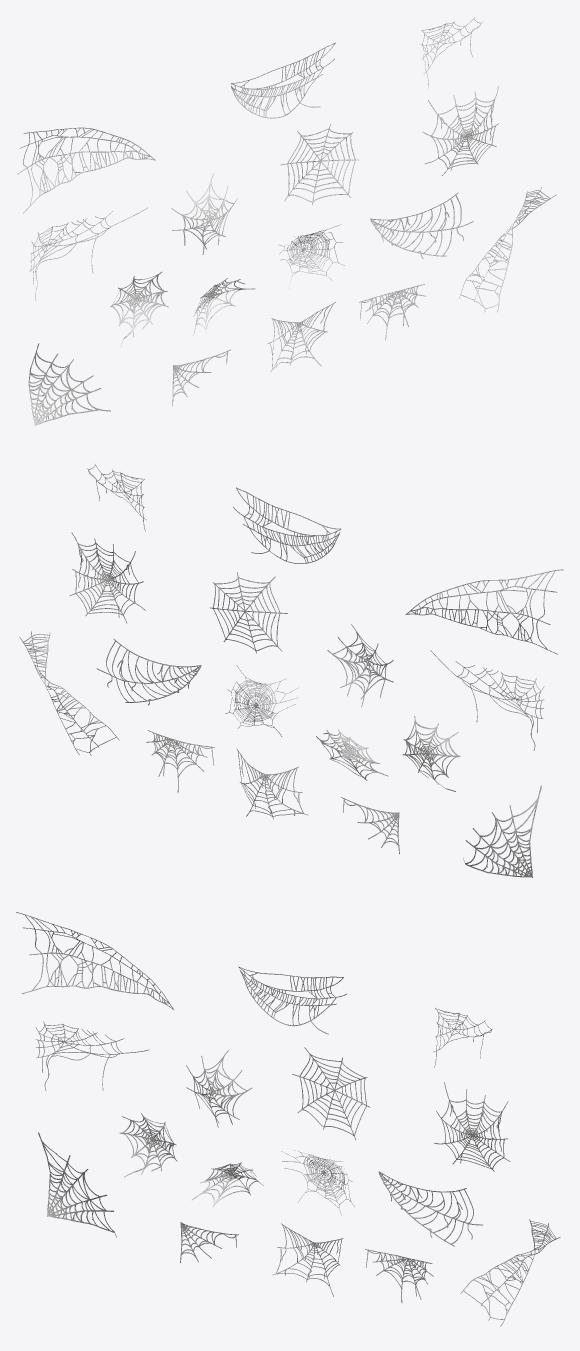
The model's file is Cobwebs.glb.
The picture shows the model from 3 angles, top to bottom: view 1: azimuth 30°, elevation 25°; view 2: azimuth 150°, elevation 25°; view 3: azimuth 330°, elevation 25°; orthographic projection.
Parts seen in each view (by area): view 1: SM_Cobwebs_07, SM_Cobwebs_05, SM_Cobwebs_15, SM_Cobwebs_11, SM_Cobwebs_06, SM_Cobwebs_16, SM_Cobwebs_03, SM_Cobwebs_04, SM_Cobwebs_08, SM_Cobwebs_14, SM_Cobwebs_10, SM_Cobwebs_13 (+4 smaller); view 2: SM_Cobwebs_07, SM_Cobwebs_05, SM_Cobwebs_15, SM_Cobwebs_11, SM_Cobwebs_06, SM_Cobwebs_04, SM_Cobwebs_08, SM_Cobwebs_16, SM_Cobwebs_03, SM_Cobwebs_14, SM_Cobwebs_10, SM_Cobwebs_13 (+4 smaller); view 3: SM_Cobwebs_07, SM_Cobwebs_05, SM_Cobwebs_15, SM_Cobwebs_11, SM_Cobwebs_06, SM_Cobwebs_08, SM_Cobwebs_16, SM_Cobwebs_04, SM_Cobwebs_03, SM_Cobwebs_14, SM_Cobwebs_10, SM_Cobwebs_13 (+4 smaller).
Part boxes in pixels (left/top/right/bottom): SM_Cobwebs_07: left=17, top=127, right=155, bottom=213; SM_Cobwebs_05: left=422, top=86, right=498, bottom=175; SM_Cobwebs_15: left=28, top=343, right=110, bottom=425; SM_Cobwebs_11: left=231, top=42, right=335, bottom=118; SM_Cobwebs_06: left=281, top=124, right=358, bottom=204; SM_Cobwebs_16: left=370, top=193, right=473, bottom=258; SM_Cobwebs_03: left=110, top=272, right=168, bottom=346; SM_Cobwebs_04: left=278, top=224, right=344, bottom=288; SM_Cobwebs_08: left=459, top=187, right=556, bottom=312; SM_Cobwebs_14: left=171, top=173, right=237, bottom=254; SM_Cobwebs_10: left=267, top=302, right=335, bottom=372; SM_Cobwebs_13: left=29, top=207, right=147, bottom=300; SM_Cobwebs_07: left=405, top=569, right=563, bottom=654; SM_Cobwebs_05: left=69, top=532, right=145, bottom=623; SM_Cobwebs_15: left=463, top=785, right=541, bottom=877; SM_Cobwebs_11: left=233, top=487, right=341, bottom=563; SM_Cobwebs_06: left=210, top=572, right=287, bottom=653; SM_Cobwebs_04: left=225, top=665, right=298, bottom=736; SM_Cobwebs_08: left=19, top=631, right=119, bottom=755; SM_Cobwebs_16: left=96, top=638, right=201, bottom=705; SM_Cobwebs_03: left=402, top=716, right=460, bottom=791; SM_Cobwebs_14: left=327, top=624, right=393, bottom=707; SM_Cobwebs_10: left=236, top=748, right=307, bottom=819; SM_Cobwebs_13: left=430, top=650, right=544, bottom=750; SM_Cobwebs_07: left=16, top=912, right=173, bottom=1009; SM_Cobwebs_05: left=434, top=1082, right=510, bottom=1171; SM_Cobwebs_15: left=38, top=1132, right=116, bottom=1237; SM_Cobwebs_11: left=238, top=966, right=346, bottom=1034; SM_Cobwebs_06: left=292, top=1047, right=370, bottom=1139; SM_Cobwebs_08: left=460, top=1219, right=560, bottom=1326; SM_Cobwebs_16: left=378, top=1171, right=482, bottom=1246; SM_Cobwebs_04: left=281, top=1150, right=354, bottom=1215; SM_Cobwebs_03: left=119, top=1113, right=177, bottom=1177; SM_Cobwebs_14: left=186, top=1050, right=252, bottom=1127; SM_Cobwebs_10: left=272, top=1223, right=343, bottom=1296; SM_Cobwebs_13: left=35, top=1021, right=149, bottom=1090.
Bounding box in the file's own units: 5.67 × 3.34 × 0.2823.
Materials: 1 (1 with a texture image).
